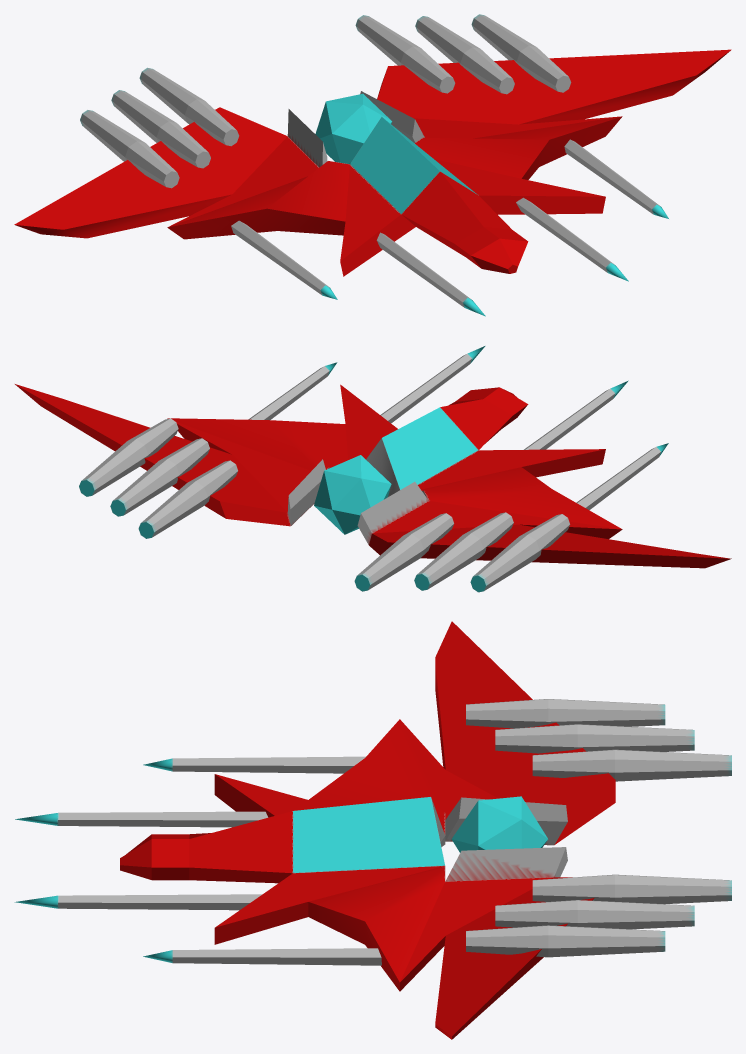
Rendered from Lucifer.fbx.
3 renders of one model, top to bottom at view 1: azimuth 30°, elevation 25°; view 2: azimuth 150°, elevation 25°; view 3: azimuth 270°, elevation 25°, orthographic. The views are drawn at different scales.
Visible parts, largest first — view 1: pCylinder1, pCylinder4 (×2), pCylinder3 (×2), pCylinder2 (×2), pCylinder6 (×2), pCylinder5 (×2), pPlatonic1; view 2: pCylinder1, pCylinder4 (×2), pCylinder3 (×2), pCylinder2 (×2), pPlatonic1, pCylinder5 (×2), pCylinder6 (×2); view 3: pCylinder1, pCylinder4 (×2), pCylinder2 (×2), pCylinder3 (×2), pCylinder6 (×2), pCylinder5 (×2), pPlatonic1.
Part boxes in pixels (left/top/right/bottom): pCylinder1: left=14, top=49, right=731, bottom=276; pCylinder4 (×2): left=80, top=14, right=571, bottom=188; pCylinder3 (×2): left=111, top=16, right=514, bottom=168; pCylinder2 (×2): left=139, top=15, right=455, bottom=146; pCylinder6 (×2): left=231, top=139, right=668, bottom=299; pCylinder5 (×2): left=376, top=197, right=628, bottom=316; pPlatonic1: left=315, top=93, right=392, bottom=164; pCylinder1: left=15, top=384, right=731, bottom=568; pCylinder4 (×2): left=79, top=418, right=570, bottom=592; pCylinder3 (×2): left=110, top=438, right=513, bottom=590; pCylinder2 (×2): left=138, top=460, right=454, bottom=591; pPlatonic1: left=314, top=455, right=391, bottom=534; pCylinder5 (×2): left=380, top=346, right=628, bottom=449; pCylinder6 (×2): left=248, top=362, right=668, bottom=510; pCylinder1: left=120, top=621, right=615, bottom=1039; pCylinder4 (×2): left=466, top=699, right=665, bottom=957; pCylinder2 (×2): left=532, top=749, right=731, bottom=904; pCylinder3 (×2): left=495, top=724, right=694, bottom=929; pCylinder6 (×2): left=143, top=756, right=381, bottom=965; pCylinder5 (×2): left=14, top=811, right=268, bottom=910; pPlatonic1: left=451, top=796, right=547, bottom=852.
Bounding box in the file's own units: 52.22 × 4.79 × 38.15.
1 material, 1 textured.
